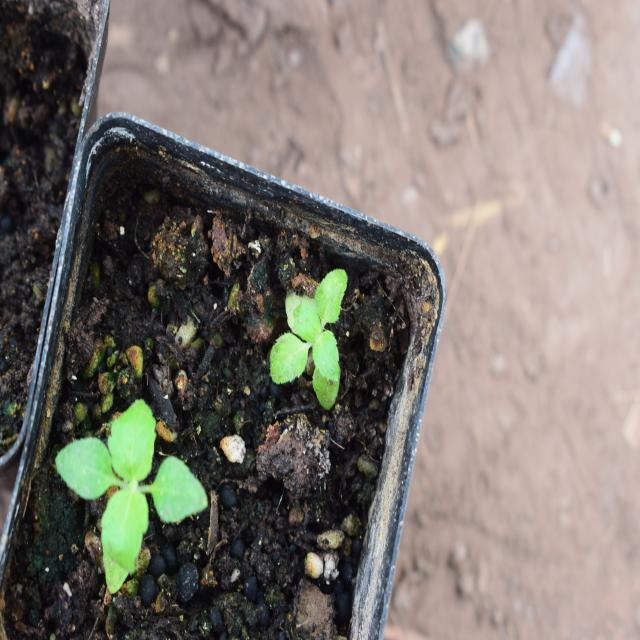billygoat_weed: (60, 386, 199, 588), (264, 259, 366, 434)
